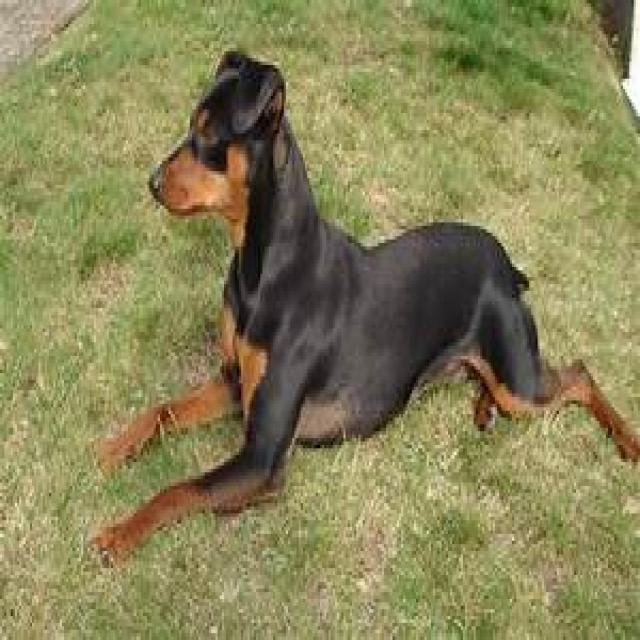dog: (90, 51, 631, 561)
